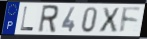0: (80, 7, 98, 34)
4: (60, 6, 76, 33)
F: (119, 6, 142, 35)
L: (19, 6, 35, 32)
R: (37, 4, 60, 34)
X: (98, 7, 121, 34)
